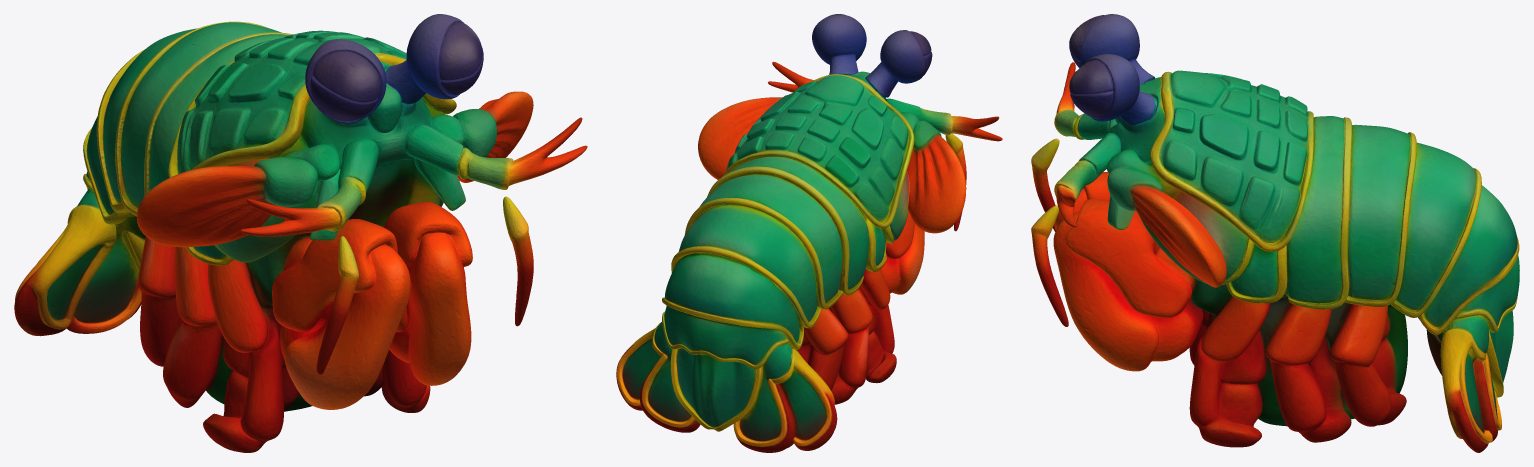
Rendered from mantis.glb.
3 renders of one model, left to right at view 1: azimuth 30°, elevation 25°; view 2: azimuth 150°, elevation 25°; view 3: azimuth 270°, elevation 25°, orthographic. The views are drawn at different scales.
Bounding box in the file's own units: 1.47 × 1.6 × 1.9.
1 material, 1 textured.
